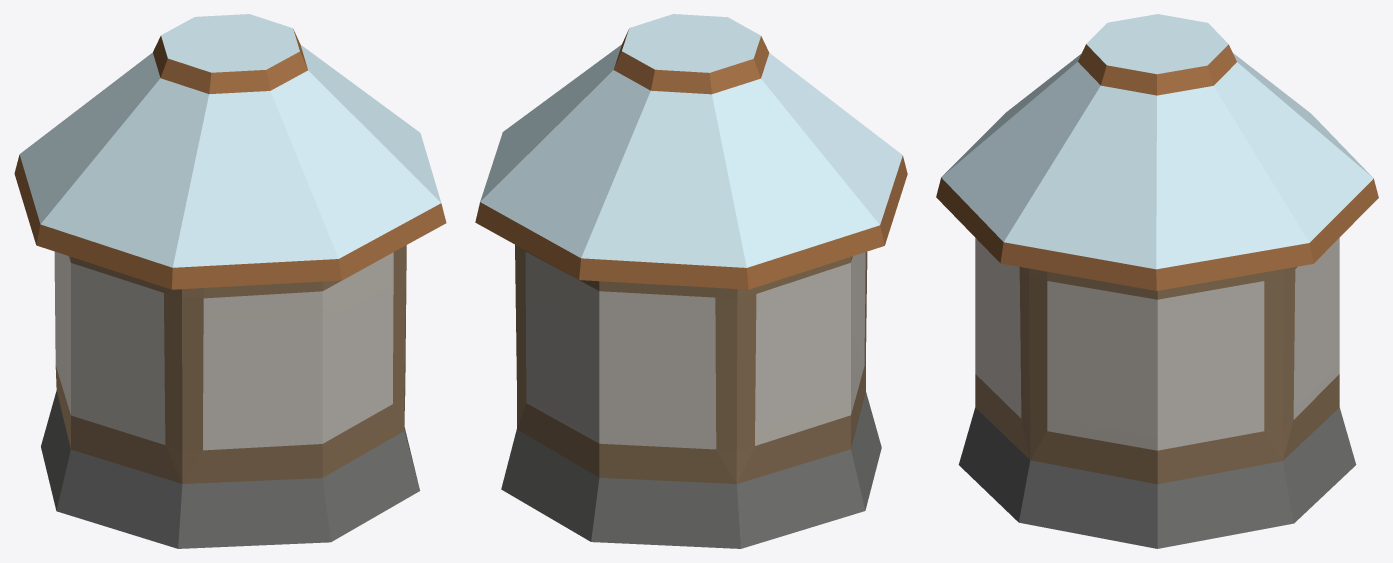
File: SM_Bld_Knights_House_04_Snow.glb
The picture shows the model from 3 angles, left to right: view 1: azimuth 30°, elevation 25°; view 2: azimuth 150°, elevation 25°; view 3: azimuth 270°, elevation 25°; orthographic projection.
Parts seen in each view (by area): view 1: SM_Bld_Knights_House_04_Snow; view 2: SM_Bld_Knights_House_04_Snow; view 3: SM_Bld_Knights_House_04_Snow.
Part boxes in pixels (left/top/right/bottom): SM_Bld_Knights_House_04_Snow: left=14, top=14, right=446, bottom=548; SM_Bld_Knights_House_04_Snow: left=475, top=14, right=907, bottom=548; SM_Bld_Knights_House_04_Snow: left=936, top=14, right=1378, bottom=548.
Size of the model in its own units: 0.7716 by 0.8091 by 0.7716.
1 material, 1 textured.
